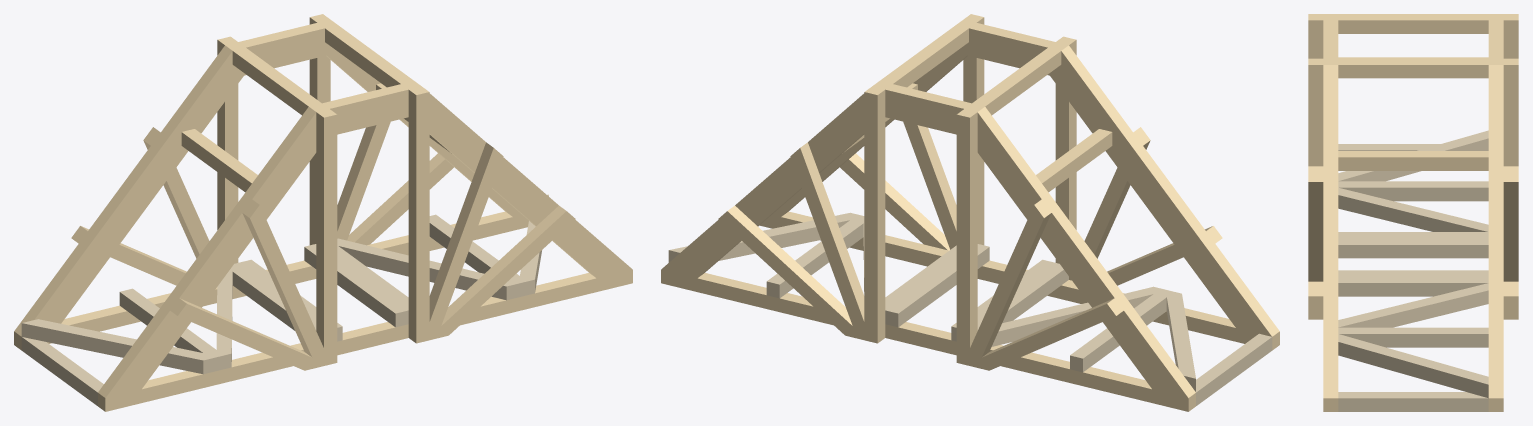
The picture shows the model from 3 angles, left to right: view 1: azimuth 30°, elevation 25°; view 2: azimuth 150°, elevation 25°; view 3: azimuth 270°, elevation 25°; orthographic projection.
Parts seen in each view (by area): view 1: 2; view 2: 2; view 3: 2.
Boxes of the visible parts, x1=… form: 2: x1=14, y1=14, x2=632, y2=411; 2: x1=661, y1=14, x2=1279, y2=411; 2: x1=1308, y1=14, x2=1518, y2=411.
Bounding box in the file's own units: 40 × 18 × 14.
